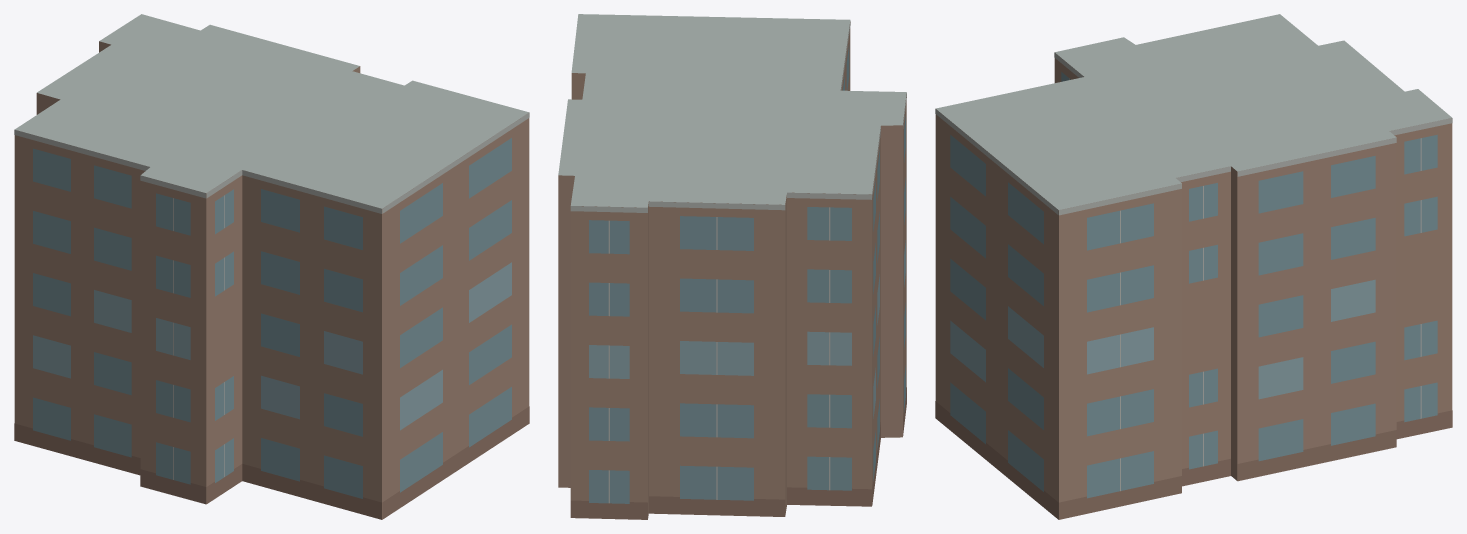
File: survey-upis-33036359.glb
The picture shows the model from 3 angles, left to right: view 1: azimuth 30°, elevation 25°; view 2: azimuth 150°, elevation 25°; view 3: azimuth 270°, elevation 25°; orthographic projection.
Visible parts, largest first — view 1: survey-upis-33036359.tmp; view 2: survey-upis-33036359.tmp; view 3: survey-upis-33036359.tmp.
Boxes of the visible parts, box(x1,y1,x2,y2) form: survey-upis-33036359.tmp: box(14, 14, 529, 519); survey-upis-33036359.tmp: box(558, 14, 906, 519); survey-upis-33036359.tmp: box(935, 14, 1452, 519).
Size of the model in its own units: 19.3 by 14.2 by 21.49.
